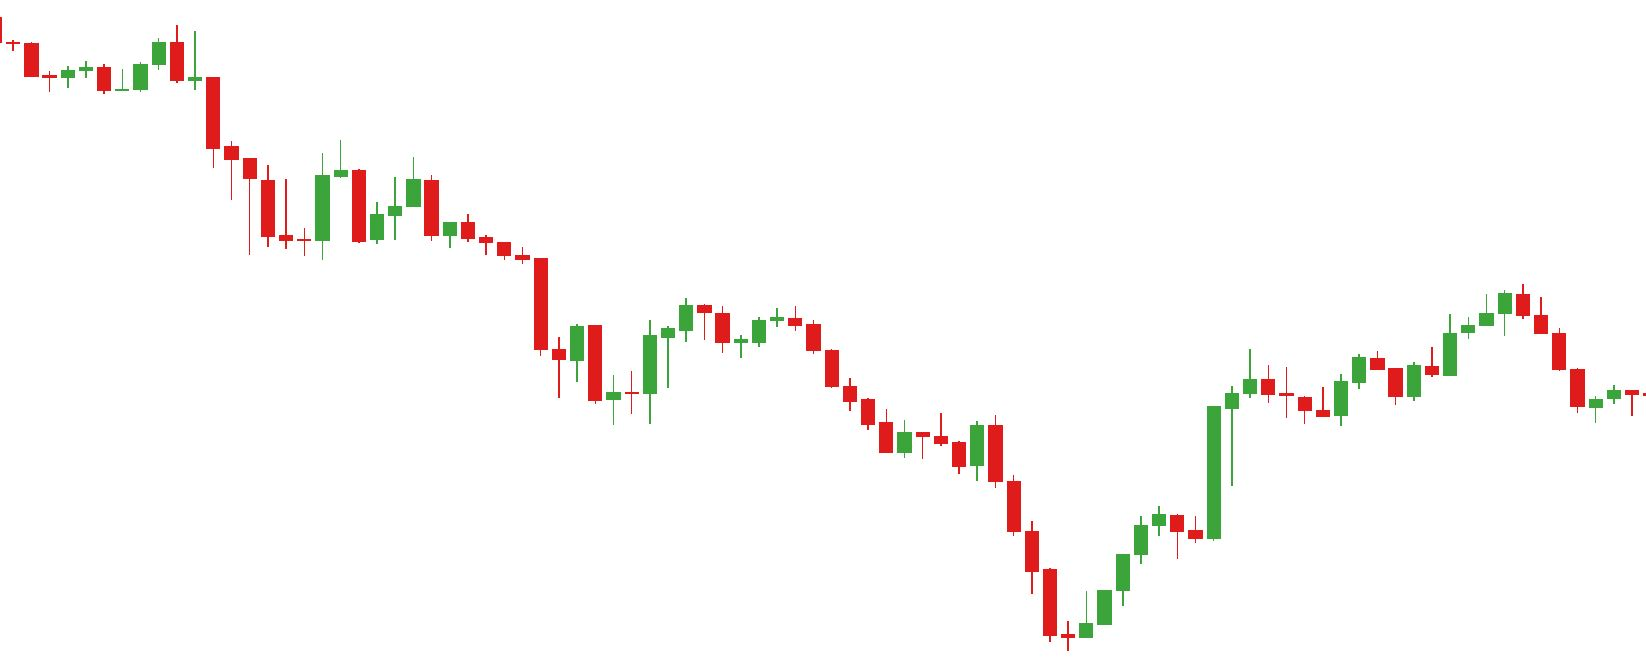sell: (568, 293, 730, 380)
